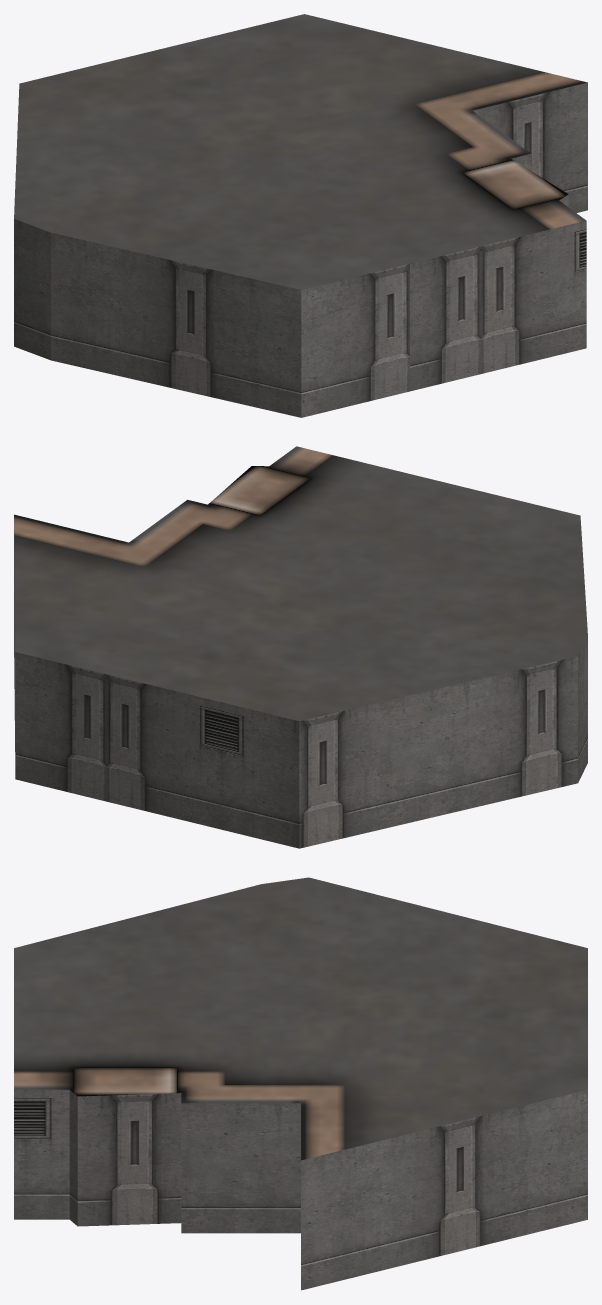
Rendered from building_hard_59.glb.
3 renders of one model, top to bottom at view 1: azimuth 30°, elevation 25°; view 2: azimuth 150°, elevation 25°; view 3: azimuth 270°, elevation 25°, orthographic. The views are drawn at different scales.
Parts seen in each view (by area): view 1: buildings/saxarba/building_hard/building_hard_59; view 2: buildings/saxarba/building_hard/building_hard_59; view 3: buildings/saxarba/building_hard/building_hard_59.
Boxes of the visible parts, left/top/right/bottom form: buildings/saxarba/building_hard/building_hard_59: left=14, top=14, right=587, bottom=417; buildings/saxarba/building_hard/building_hard_59: left=14, top=446, right=587, bottom=848; buildings/saxarba/building_hard/building_hard_59: left=14, top=877, right=587, bottom=1290.
Size of the model in its own units: 84 by 18 by 72.
